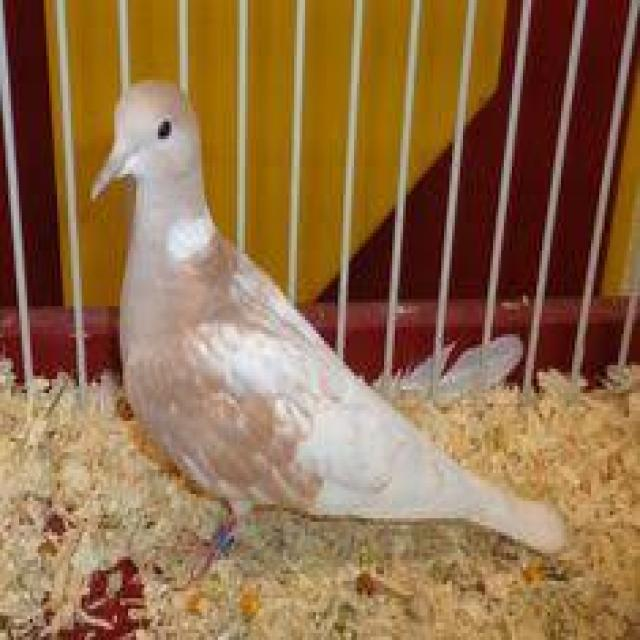pigeon: (64, 37, 600, 598)
